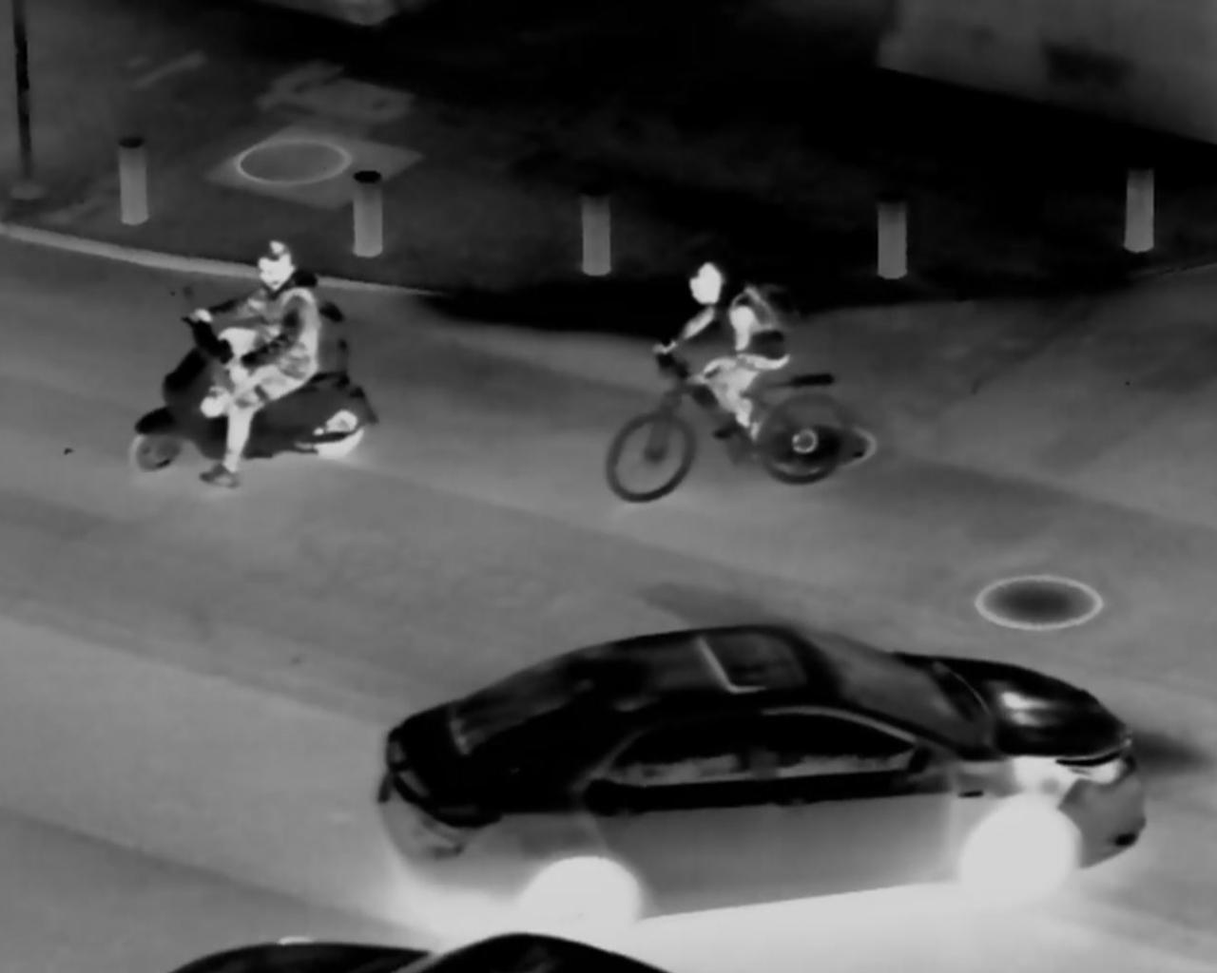person: (196, 239, 321, 486), (659, 249, 796, 440)
